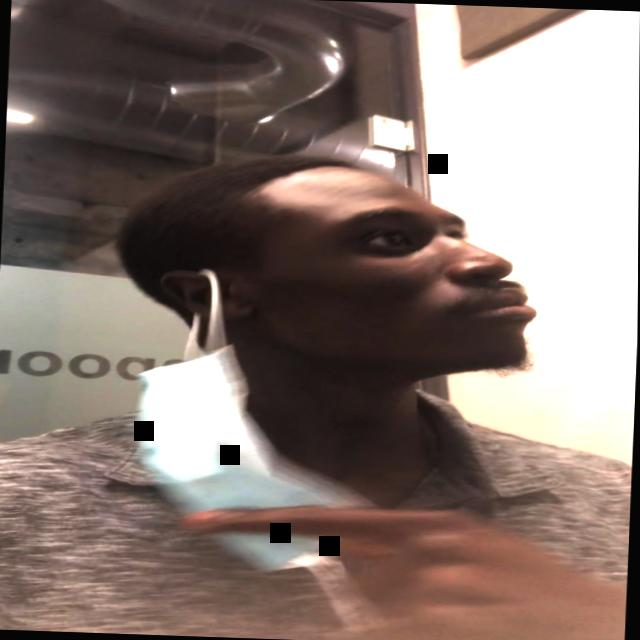NO-Mask: (185, 174, 540, 368)
